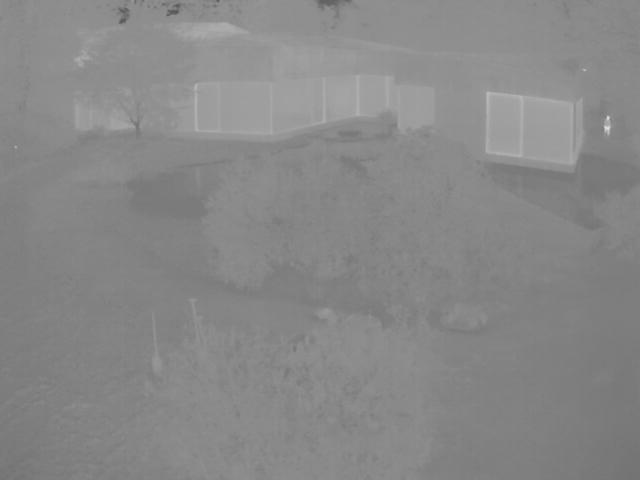person: (604, 114, 615, 138)
